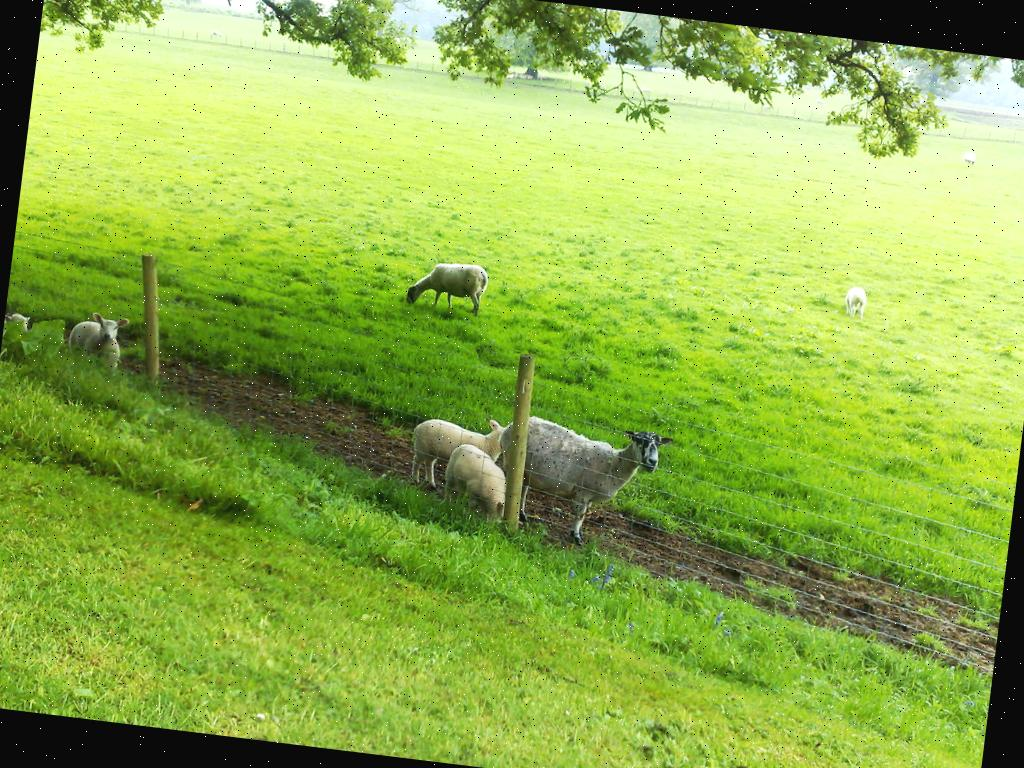Sheep: (478, 406, 668, 553), (404, 407, 512, 500), (403, 255, 490, 316), (65, 308, 129, 374), (0, 311, 33, 361), (841, 284, 867, 319)
